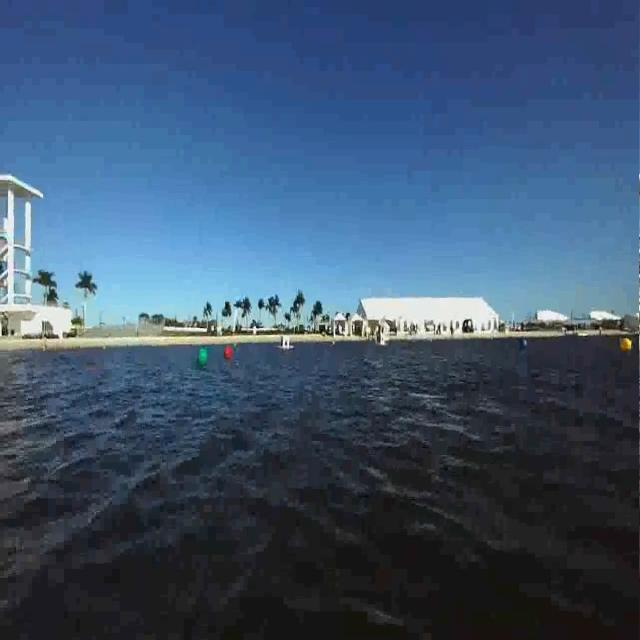red-buoy: (224, 346, 232, 360)
yellow-buoy: (622, 337, 634, 354)
